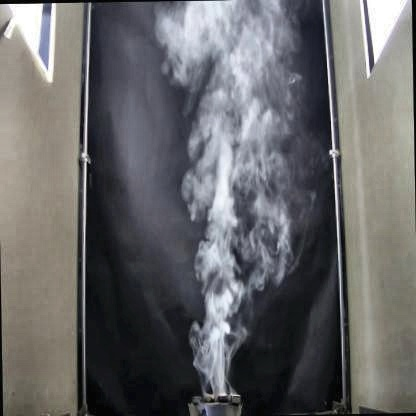smoke: (153, 0, 297, 390)
